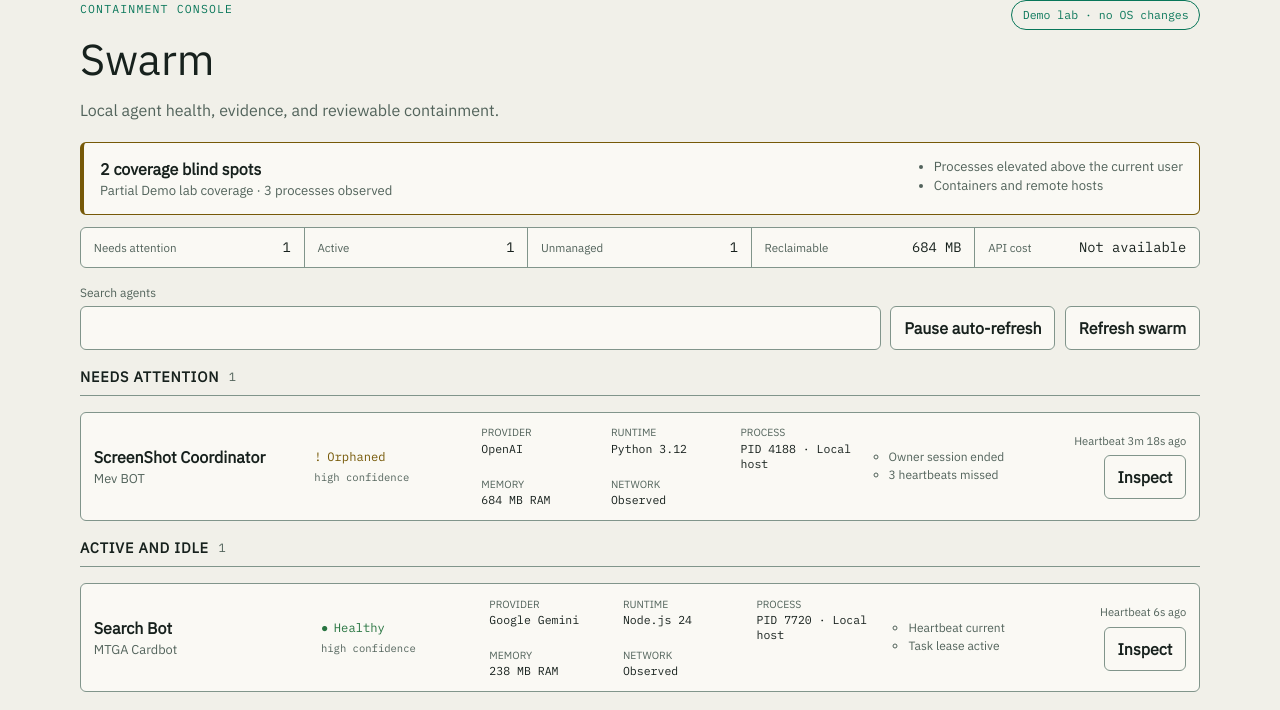
Test: Swarm radar › reviews and executes a graceful stop by immutable plan, then shows a durable receipt
Click the button with aria-label "inspect ScreenShot Coordinator".
click(1145, 477)  # box [1104, 455, 1186, 499]
(page scrolled)
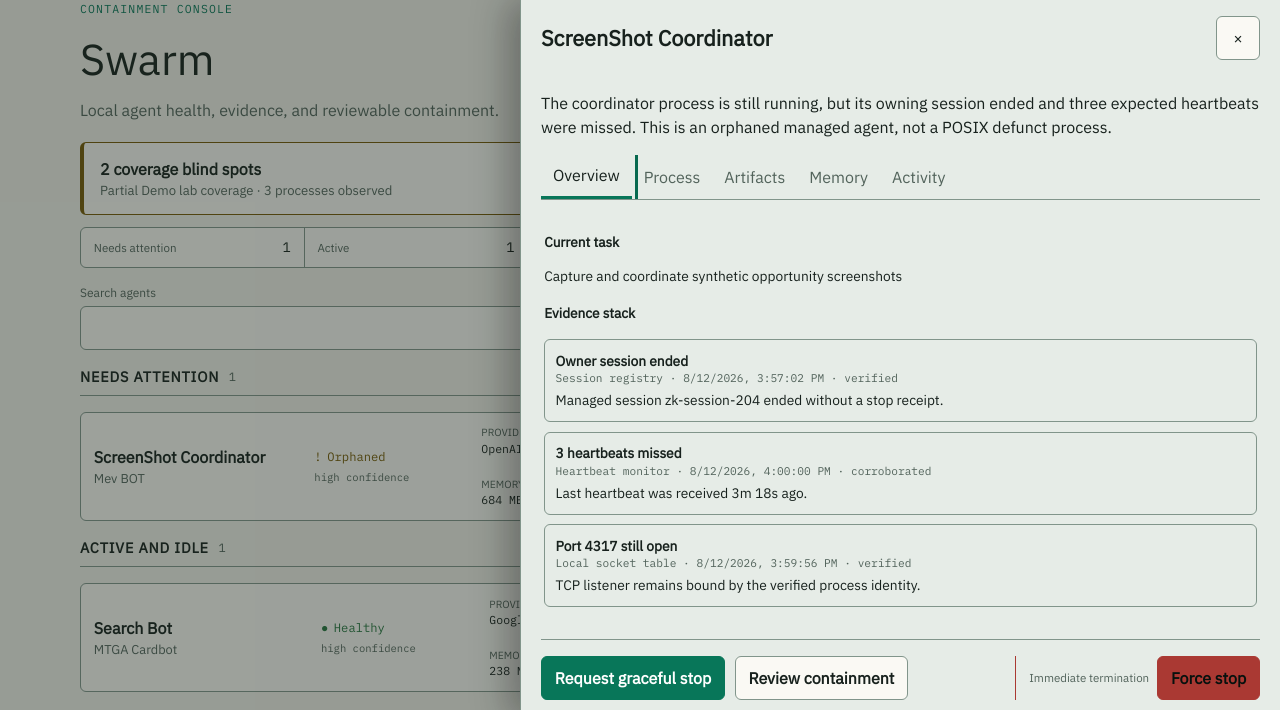
Click the button "Request graceful stop".
click(633, 678)  # box [541, 656, 725, 700]
(page scrolled)
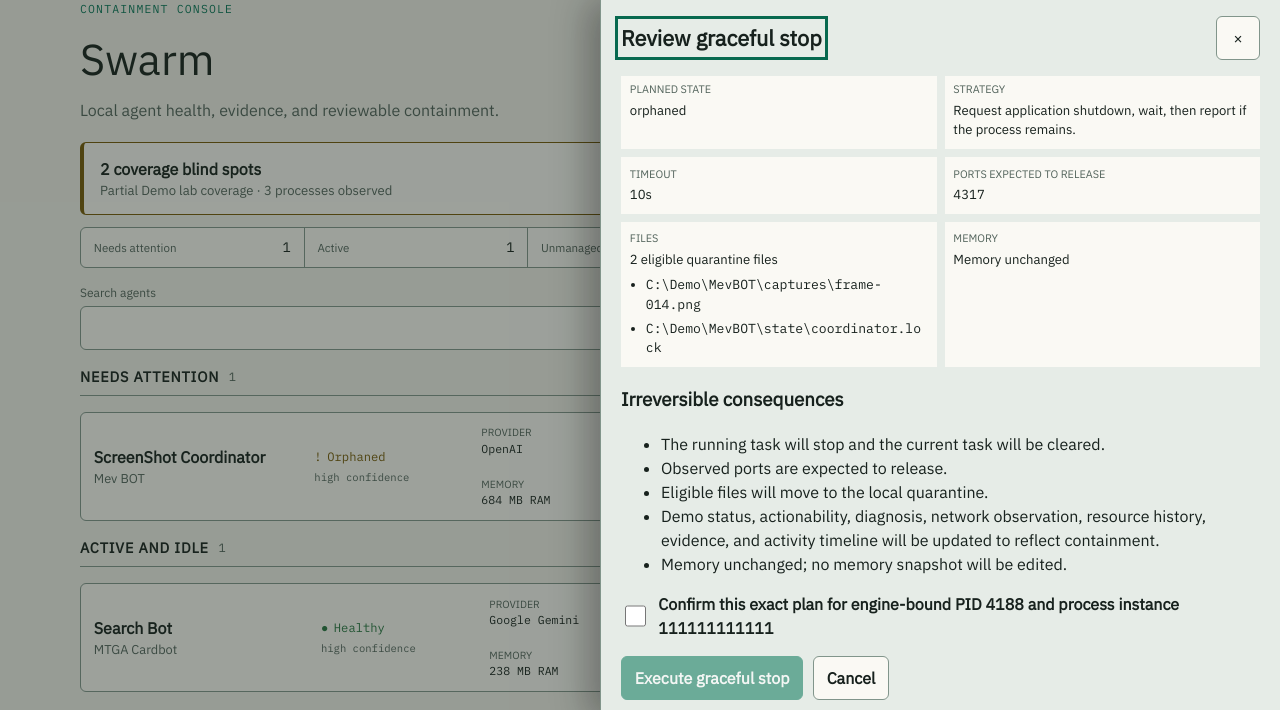
Now the text "PID 4188" is shown, box [630, 17, 686, 34]
Now the text "Memory unchanged" is shown, box [953, 251, 1070, 268]
Now the text "2 eligible quarantine files" is shown, box [630, 250, 928, 358]
Click the checkbox labelled "Confirm this exact plan".
click(635, 616)  # box [625, 605, 646, 627]
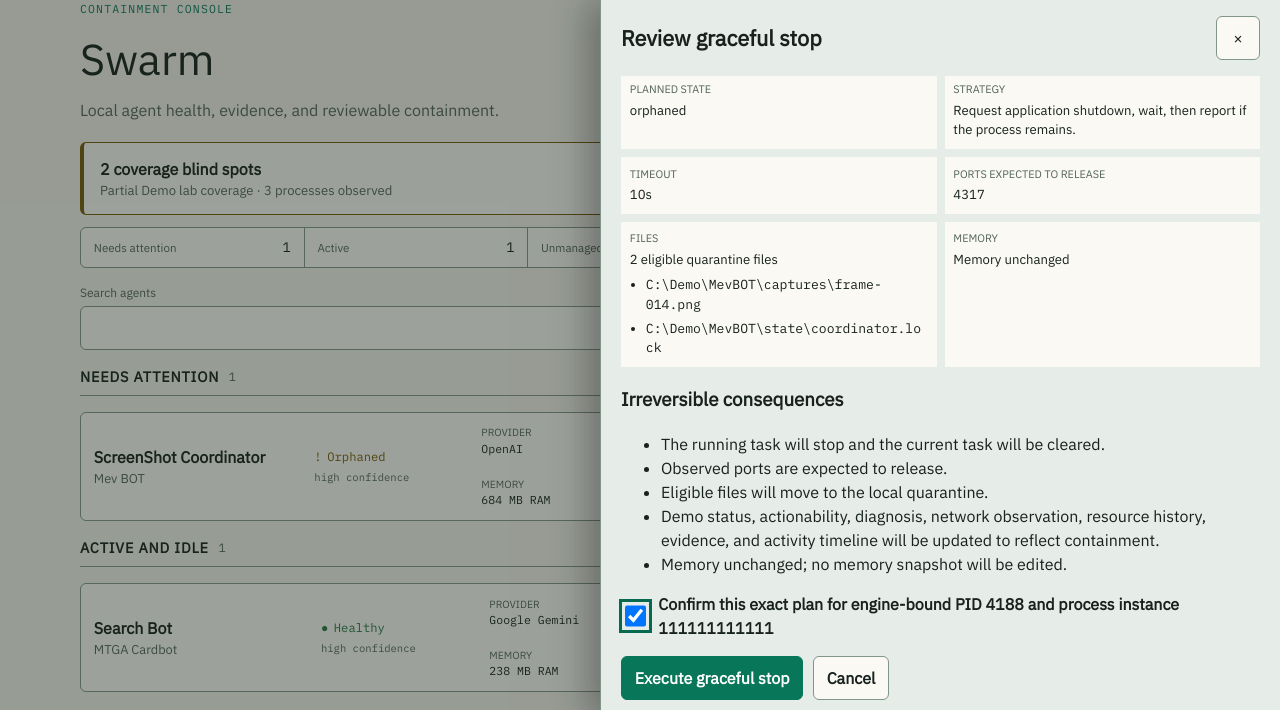
Click the button "Execute graceful stop".
click(712, 678)  # box [621, 656, 803, 700]
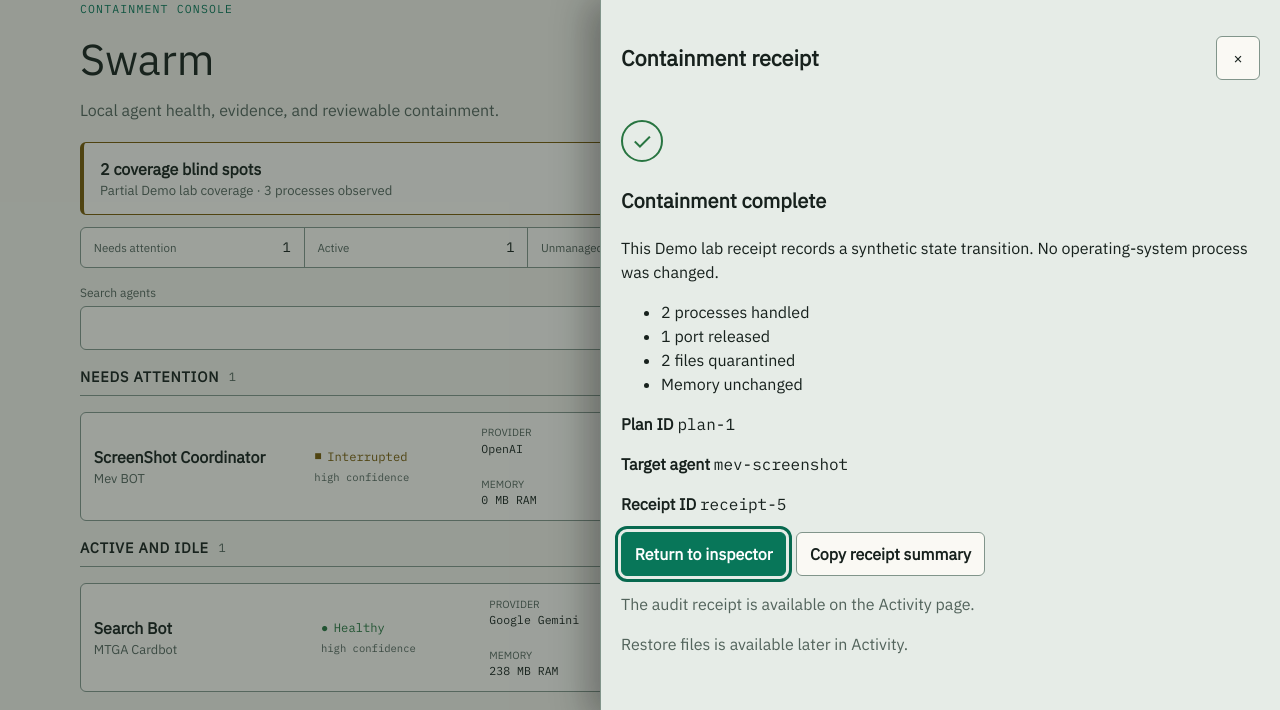
Now the heading "Containment complete" is shown, box [621, 187, 826, 214]
Now the list item "2 processes handled" is shown, box [661, 302, 809, 322]
Now the list item "1 port released" is shown, box [661, 326, 770, 346]
Click the button "Copy receipt summary".
click(890, 554)  # box [796, 532, 985, 576]
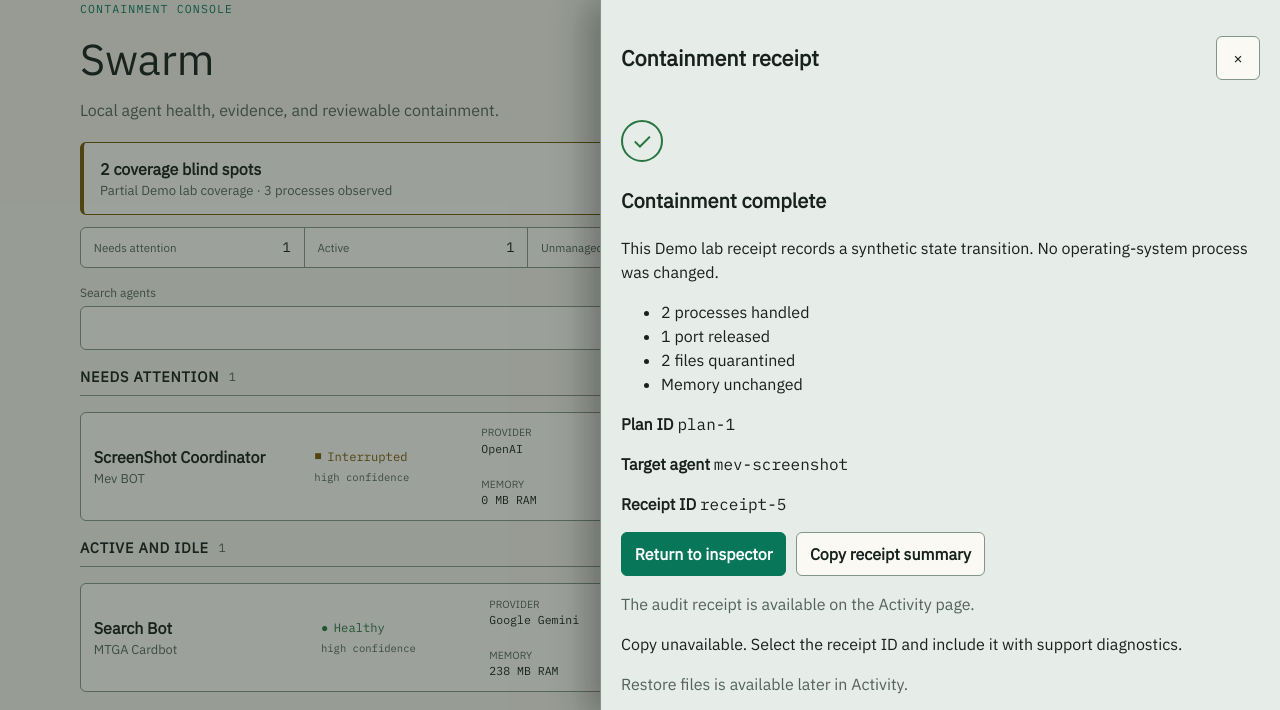
Now the text "The audit receipt is available on the Activity page." is shown, box [621, 594, 975, 614]
Now the message shows "Copy unavailable", box [621, 634, 1182, 654]
